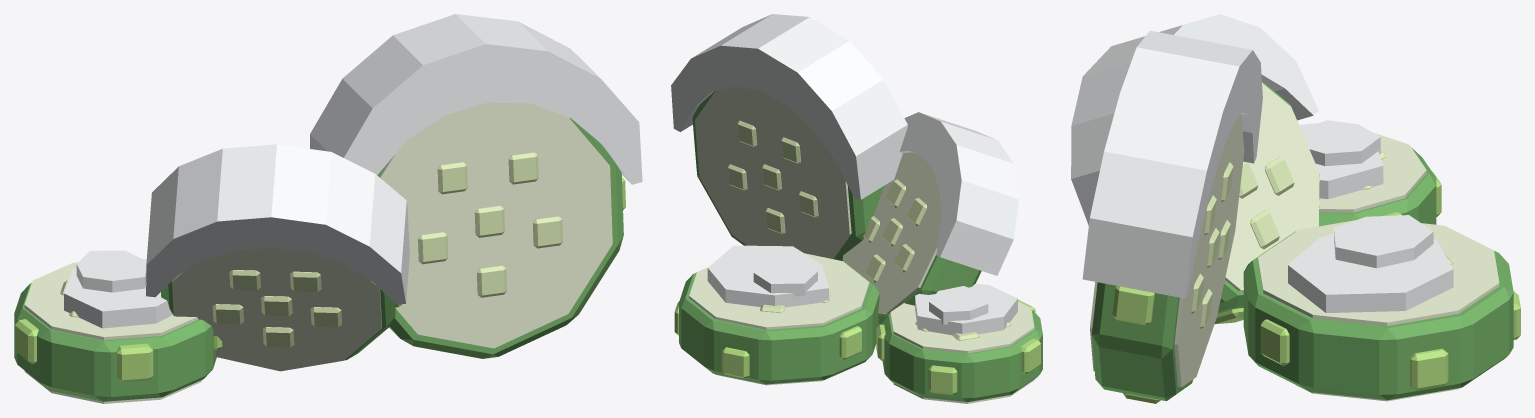
Rendered from SnowFrozenSlice.fbx.
3 renders of one model, left to right at view 1: azimuth 30°, elevation 25°; view 2: azimuth 150°, elevation 25°; view 3: azimuth 270°, elevation 25°, orthographic. The views are drawn at different scales.
Visible parts, largest first — view 1: SnowFrozenSlice.Snow, SnowFrozenSlice.Faces, SnowFrozenSlice.Rims, SnowFrozenSlice.Seeds, SnowFrozenSlice.RimStuds; view 2: SnowFrozenSlice.Snow, SnowFrozenSlice.Faces, SnowFrozenSlice.Rims, SnowFrozenSlice.Seeds, SnowFrozenSlice.RimStuds; view 3: SnowFrozenSlice.Snow, SnowFrozenSlice.Rims, SnowFrozenSlice.Faces, SnowFrozenSlice.RimStuds, SnowFrozenSlice.Seeds.
Boxes of the visible parts, <box> form: SnowFrozenSlice.Snow: <box>64,14,642,328</box>; SnowFrozenSlice.Faces: <box>24,102,612,403</box>; SnowFrozenSlice.Rims: <box>14,118,623,401</box>; SnowFrozenSlice.Seeds: <box>60,152,562,347</box>; SnowFrozenSlice.RimStuds: <box>15,177,625,382</box>; SnowFrozenSlice.Snow: <box>671,14,1018,335</box>; SnowFrozenSlice.Faces: <box>689,86,1034,403</box>; SnowFrozenSlice.Rims: <box>679,91,1042,402</box>; SnowFrozenSlice.Seeds: <box>728,120,1011,340</box>; SnowFrozenSlice.RimStuds: <box>674,299,1040,395</box>; SnowFrozenSlice.Snow: <box>1071,14,1453,312</box>; SnowFrozenSlice.Rims: <box>1091,82,1513,401</box>; SnowFrozenSlice.Faces: <box>1090,83,1499,401</box>; SnowFrozenSlice.RimStuds: <box>1112,171,1520,403</box>; SnowFrozenSlice.Seeds: <box>1191,151,1453,328</box>.
Bounding box in the file's own units: 3.45 × 2.02 × 2.38.
